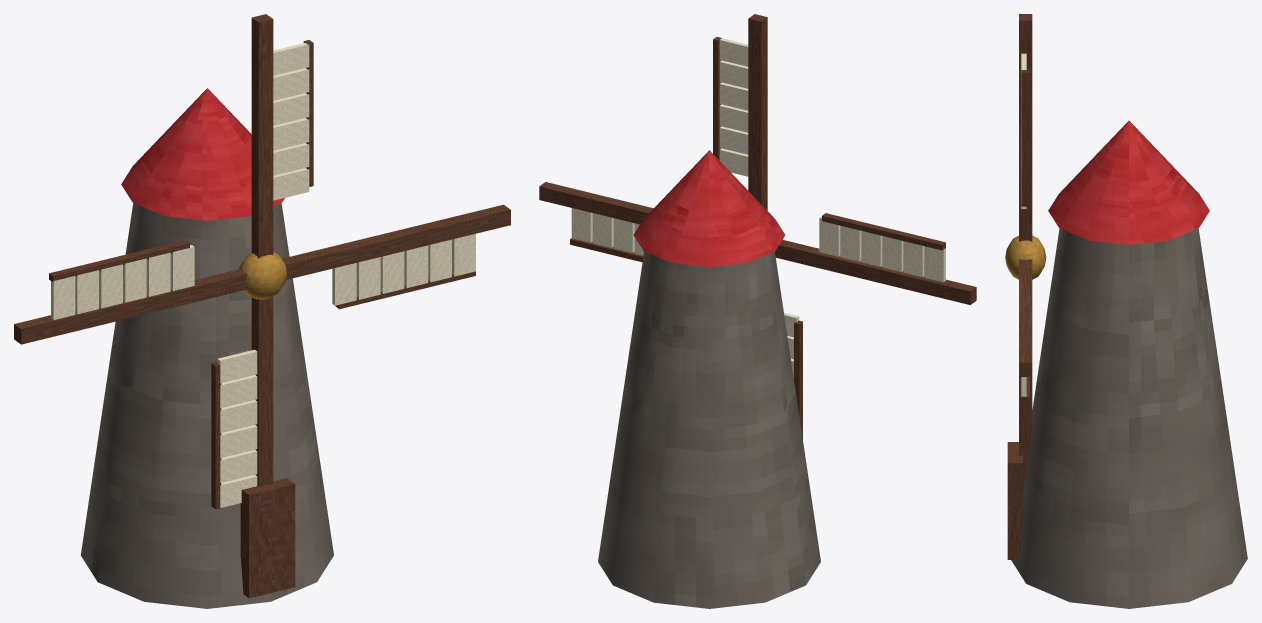
The model's file is stone-windmill.glb.
3 views of the same model, side by side, from view 1: azimuth 30°, elevation 25°; view 2: azimuth 150°, elevation 25°; view 3: azimuth 270°, elevation 25° (orthographic). The views are drawn at different scales.
Visible parts, largest first — view 1: tapered tower, sail cloth panel (×24), spar (×4), cap, door, outer rail (×4), axle cap; view 2: tapered tower, cap, sail cloth panel (×15), spar (×3), outer rail (×3); view 3: tapered tower, cap, spar (×3), door, outer rail, axle cap.
Boxes of the visible parts, <box> form: tapered tower: <box>80,203,333,608</box>; sail cloth panel (×24): <box>51,43,475,507</box>; spar (×4): <box>14,14,510,486</box>; cap: <box>121,88,284,220</box>; door: <box>240,478,295,598</box>; outer rail (×4): <box>49,40,475,509</box>; axle cap: <box>239,252,287,299</box>; tapered tower: <box>598,251,820,608</box>; cap: <box>633,150,785,266</box>; sail cloth panel (×15): <box>571,38,945,282</box>; spar (×3): <box>539,14,976,304</box>; outer rail (×3): <box>713,37,945,439</box>; tapered tower: <box>1011,228,1247,608</box>; cap: <box>1048,120,1209,244</box>; spar (×3): <box>1019,14,1032,487</box>; door: <box>1007,442,1023,559</box>; outer rail: <box>1021,70,1029,206</box>; axle cap: <box>1005,235,1046,279</box>.
Bounding box in the file's own units: 3.08 × 3.47 × 1.41.
5 materials, 5 textured.
